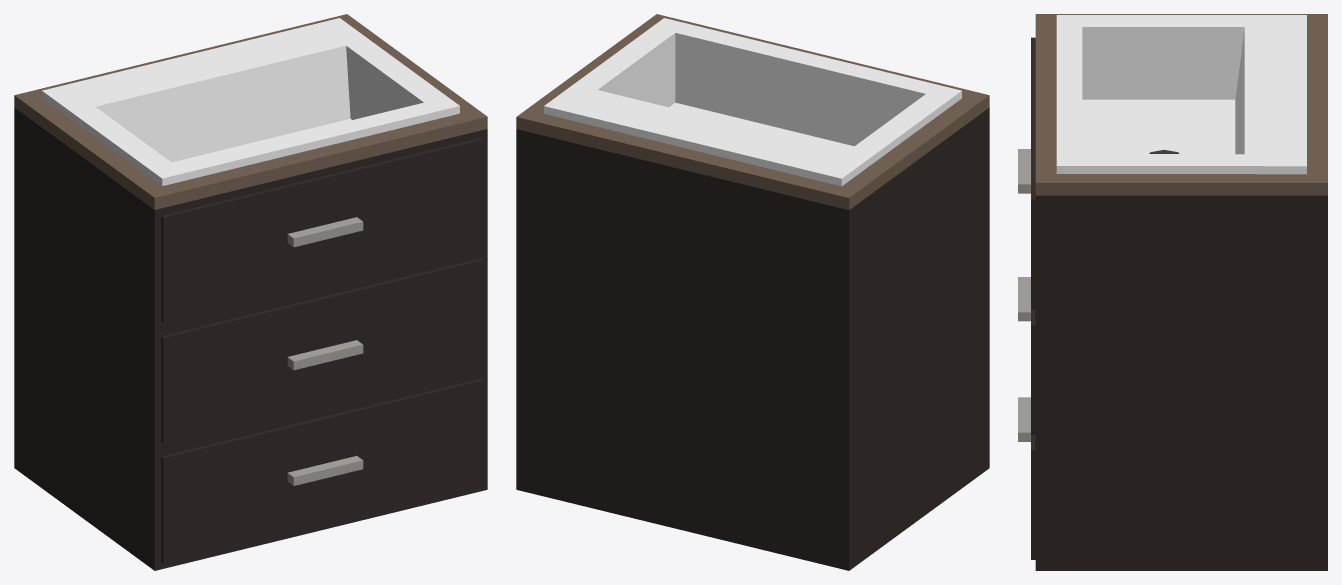
File: Kitchen_Cabinet2.fbx
The picture shows the model from 3 angles, left to right: view 1: azimuth 30°, elevation 25°; view 2: azimuth 150°, elevation 25°; view 3: azimuth 270°, elevation 25°; orthographic projection. The views are drawn at different scales.
Visible parts, largest first — view 1: Kitchen_Cabinet2; view 2: Kitchen_Cabinet2; view 3: Kitchen_Cabinet2.
Boxes of the visible parts, box(x1,y1,x2,y2) form: Kitchen_Cabinet2: box(14, 14, 487, 570); Kitchen_Cabinet2: box(516, 14, 989, 570); Kitchen_Cabinet2: box(1018, 14, 1327, 570).
Size of the model in its own units: 121 by 93.63 by 132.
